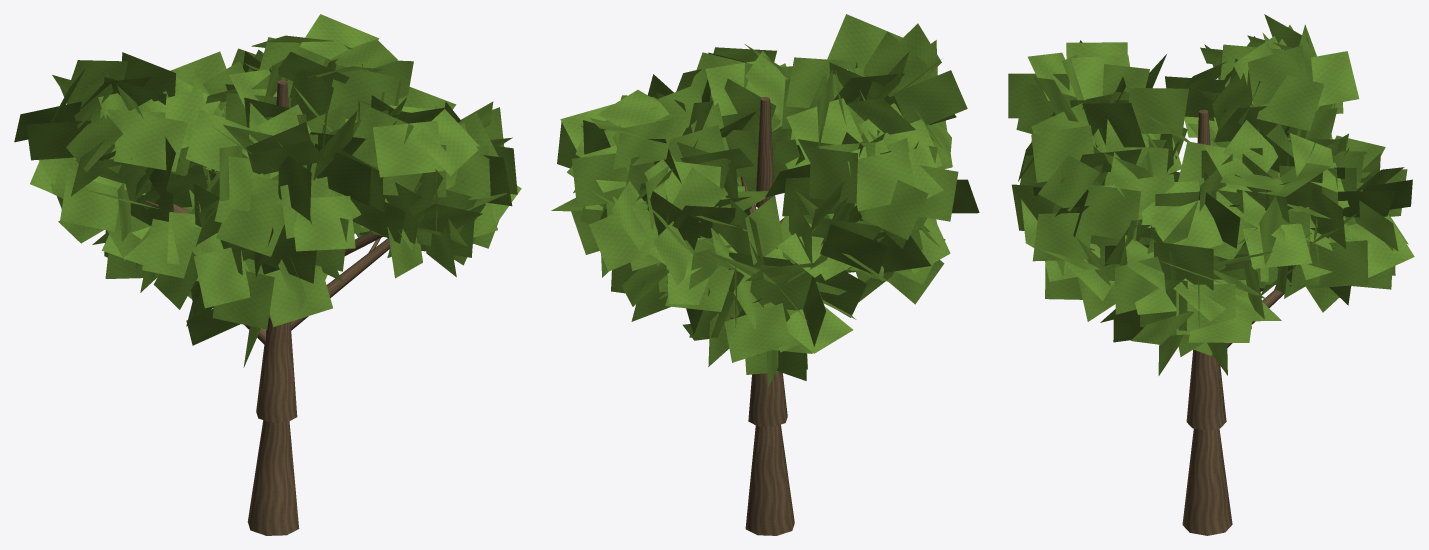
The picture shows the model from 3 angles, left to right: view 1: azimuth 30°, elevation 25°; view 2: azimuth 150°, elevation 25°; view 3: azimuth 270°, elevation 25°; orthographic projection. The views are drawn at different scales.
Visible parts, largest first — view 1: oak-leaf, oak-bark; view 2: oak-leaf, oak-bark; view 3: oak-leaf, oak-bark.
Part boxes in pixels (x1,y1,x2,y2): oak-leaf: (14, 14, 521, 367); oak-bark: (143, 80, 390, 535); oak-leaf: (551, 14, 979, 387); oak-bark: (729, 97, 845, 535); oak-leaf: (1008, 14, 1414, 375); oak-bark: (1089, 109, 1284, 535).
Bounding box in the file's own units: 7.94 × 8.26 × 6.81.
2 materials, 2 textured.
